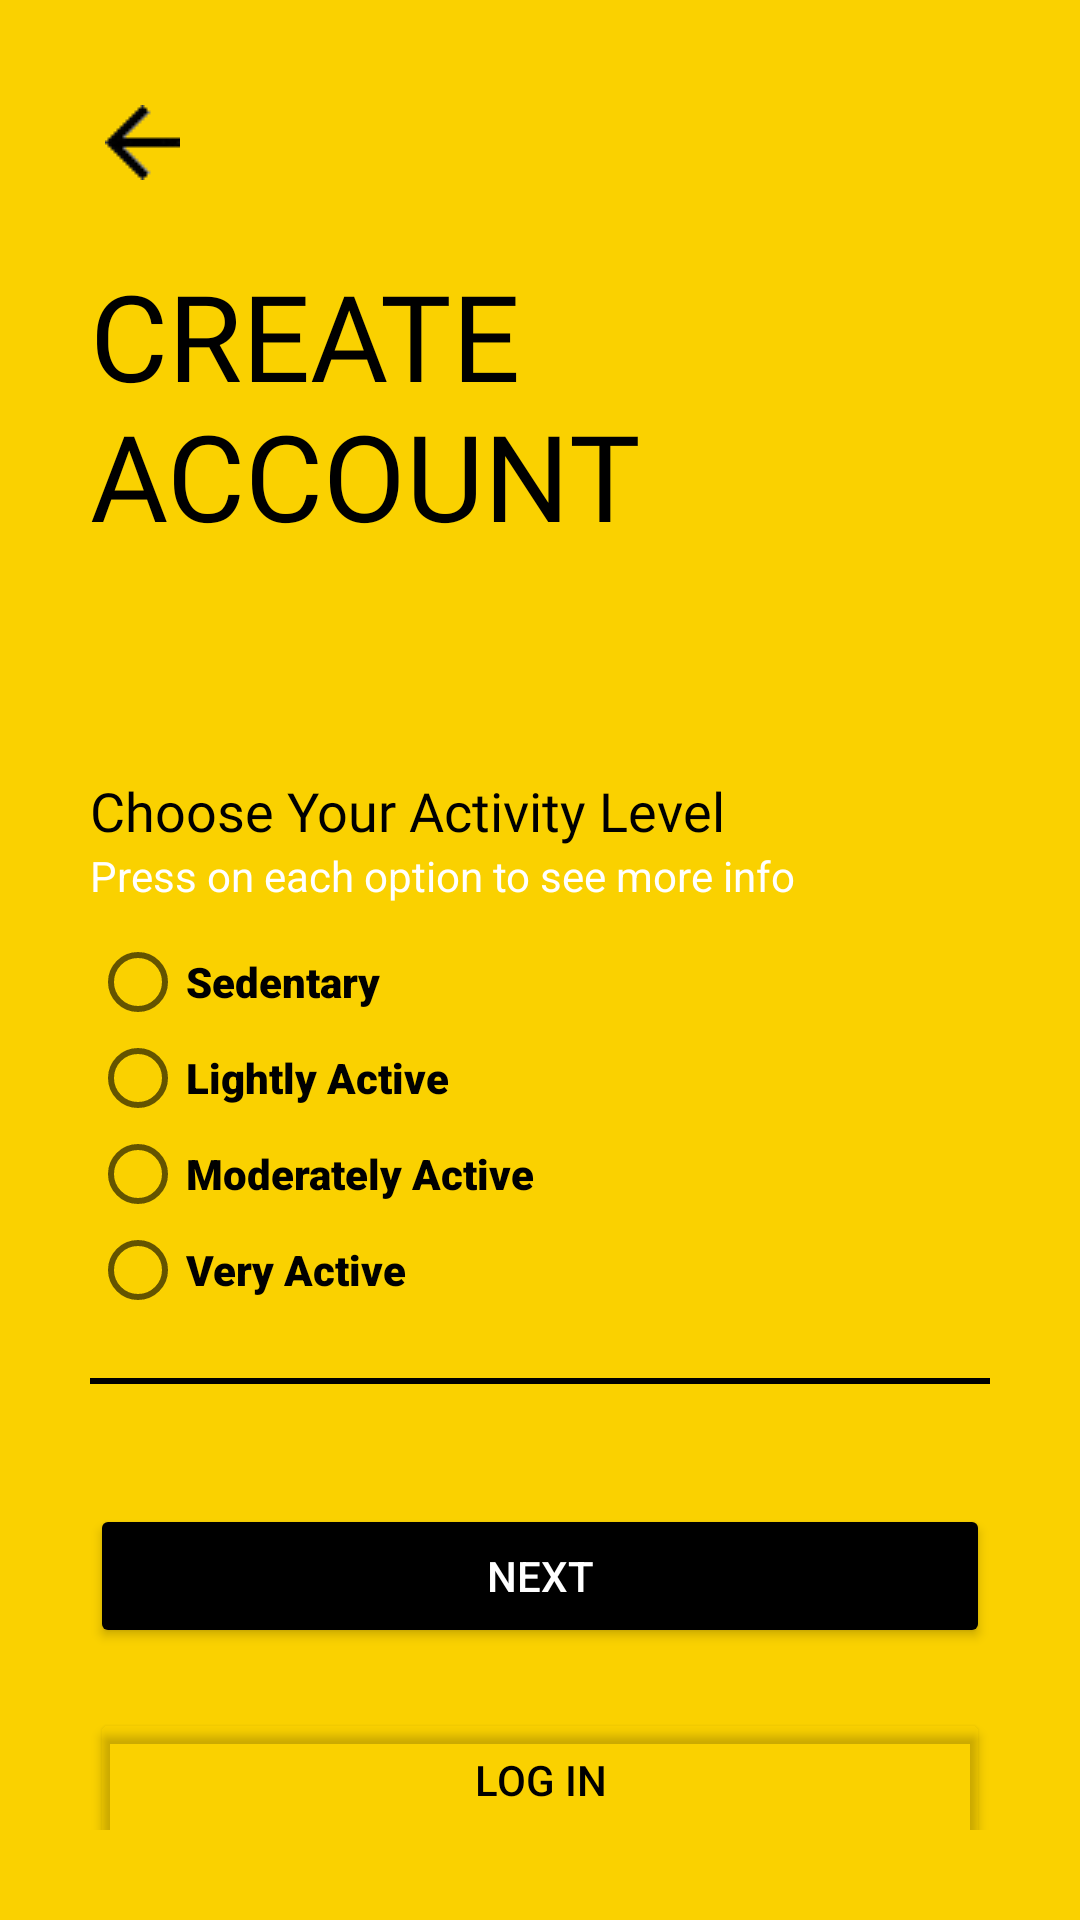

Icons on this 1080px×1920px Android screen, each with the point to tap as [x,y]:
general back: [142,142]
